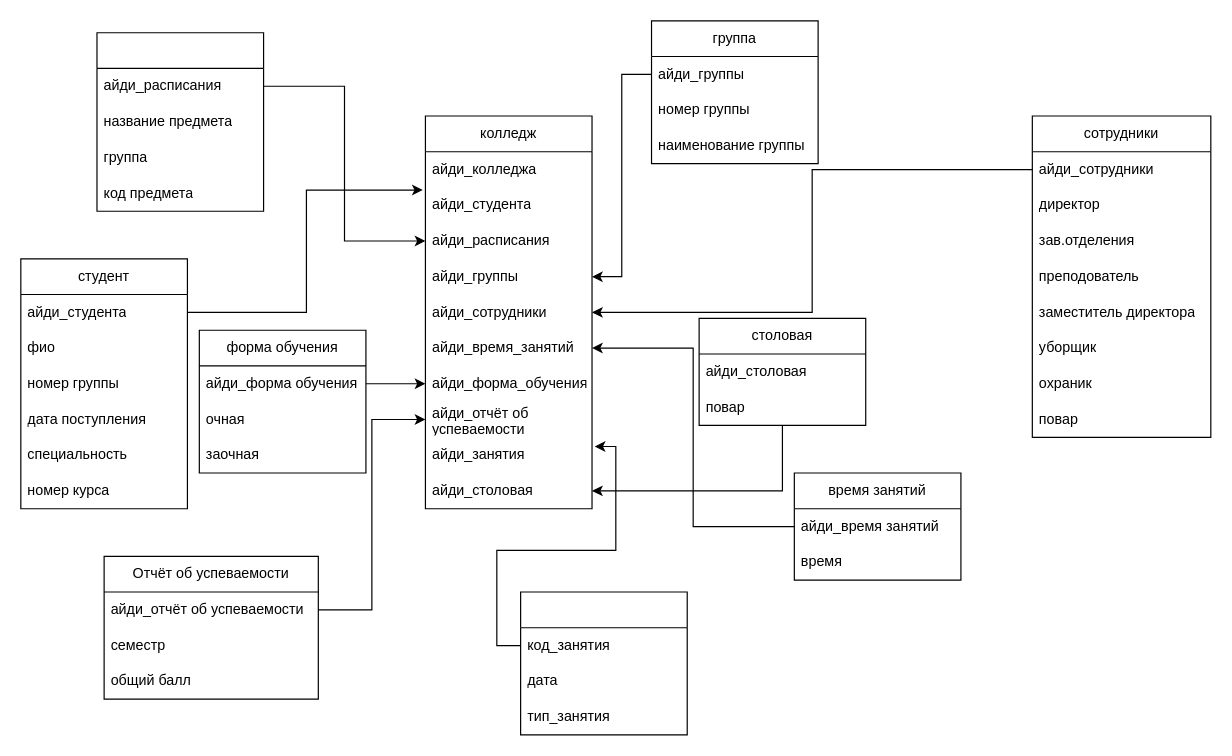
This 1232x756 diagram has some shape labels left out. Here are the shapes that lost their labels. From the top down, the box of each, then its label:
(96, 32, 264, 211): расписание
(519, 591, 687, 735): занятие
